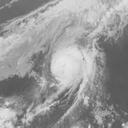cyclone: (47, 41, 105, 99)
